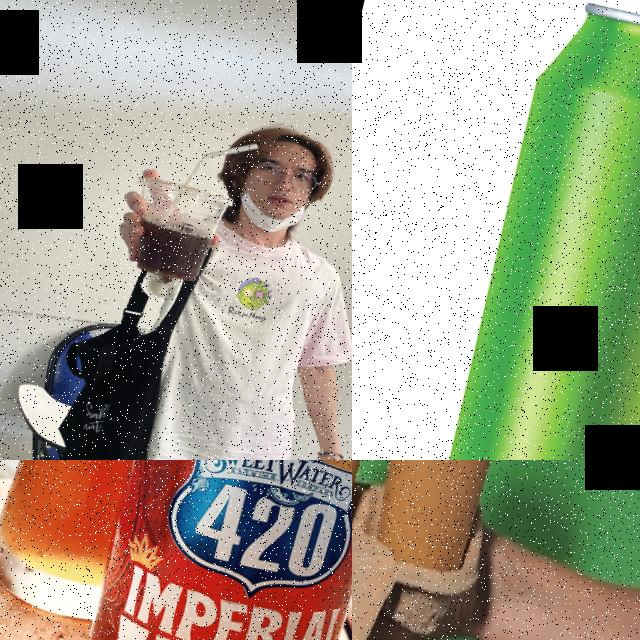can: (426, 0, 640, 460), (68, 460, 352, 640)
cup: (353, 460, 531, 579), (119, 172, 236, 289)
